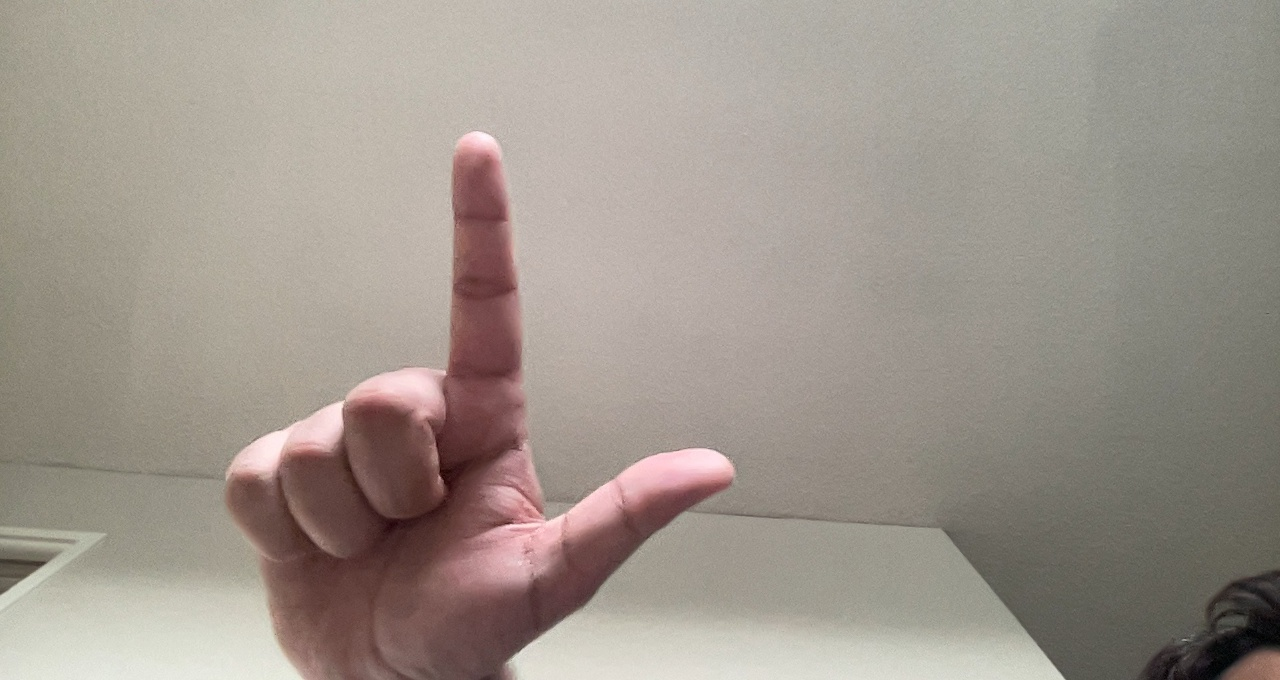L: (213, 124, 745, 664)
